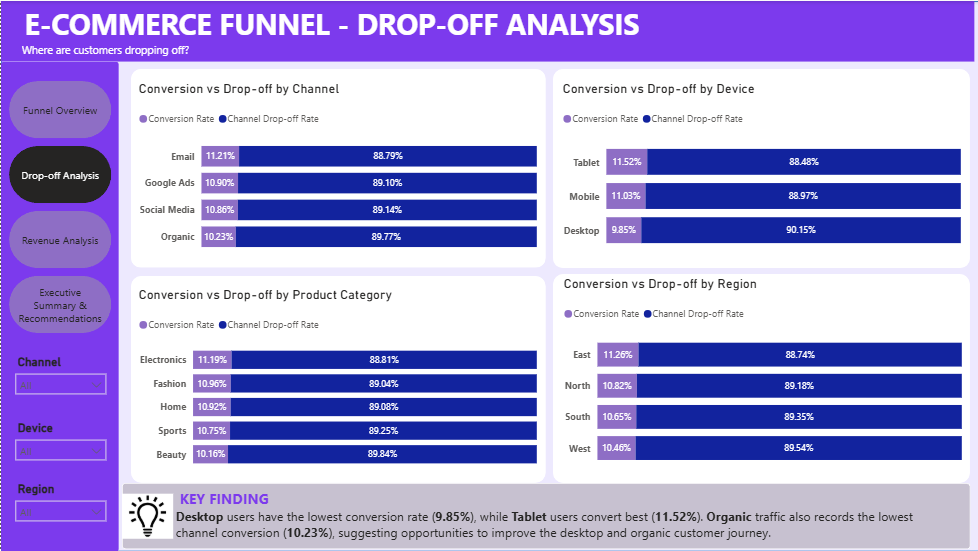

The dashboard page shown, as its layout file describes it:
{"tool":"powerbi","page":{"name":"Drop-off Analysis","canvas":[1280,720],"ordinal":1},"visuals":[{"type":"shape","box":[725.8,357.1,542.9,273.6],"z":0},{"type":"shape","box":[722.9,360,545.8,231.8],"z":1000},{"type":"shape","box":[0,0,1280,720.6],"z":2000},{"type":"shape","box":[0,79.2,154.1,640.8],"z":3000},{"type":"shape","title":"   E-COMMERCE FUNNEL - DROP-OFF ANALYSIS","box":[0,0,1274.4,79.2],"z":4000},{"type":"shape","box":[169.9,89.3,542.9,260],"z":5000},{"type":"shape","box":[722.9,89.3,545.8,260.6],"z":6000},{"type":"shape","box":[158.3,630.4,1110.7,86.7],"z":7000},{"type":"textbox","title":"KEY FINDING","box":[224.3,633.1,1030.9,84],"z":8000},{"type":"hundredPercentStackedBarChart","title":"Conversion vs Drop-off by Channel","fields":{"Category":["funnel_analysis_data.Channel"],"Y":["funnel_analysis_data.Channel Conversion Rate","funnel_analysis_data.Channel Drop-off Rate"]},"box":[175.7,105.1,531.4,237.6],"z":9000},{"type":"hundredPercentStackedBarChart","title":"Conversion vs Drop-off by Device","fields":{"Y":["funnel_analysis_data.Channel Conversion Rate","funnel_analysis_data.Channel Drop-off Rate"],"Category":["funnel_analysis_data.Device"]},"box":[730.1,105.1,531.4,237],"z":10000},{"type":"slicer","fields":{"Values":["funnel_analysis_data.Channel"]},"box":[7.2,456.5,141.1,59],"z":11000},{"type":"slicer","fields":{"Values":["funnel_analysis_data.Device"]},"box":[7.2,542.9,141.1,59],"z":12000},{"type":"slicer","fields":{"Values":["funnel_analysis_data.Region"]},"box":[7.2,623.5,141.1,59],"z":13000},{"type":"shape","box":[169.9,360,542.9,270.7],"z":14000},{"type":"hundredPercentStackedBarChart","title":"Conversion vs Drop-off by Product Category","fields":{"Y":["funnel_analysis_data.Channel Conversion Rate","funnel_analysis_data.Channel Drop-off Rate"],"Category":["funnel_analysis_data.Product_Category"]},"box":[175.7,374.4,531.4,249.1],"z":15000},{"type":"shape","box":[722.9,357.1,545.8,273.6],"z":16000},{"type":"hundredPercentStackedBarChart","title":"Conversion vs Drop-off by Region","fields":{"Y":["funnel_analysis_data.Channel Conversion Rate","funnel_analysis_data.Channel Drop-off Rate"],"Category":["funnel_analysis_data.Region"]},"box":[731.5,360,531.4,263.5],"z":17000},{"type":"textbox","box":[22,0,918,79.8],"z":18000},{"type":"image","box":[158.3,630.4,67.4,86.7],"z":19000},{"type":"pageNavigator","box":[11,104.6,134.9,330.3],"z":20000}]}

Visuals, with their boxes in screenshot pixels (x1, y1, x2, y2), scaled from the page's 1280x720 canvas onto the 978x551 screenshot:
shape: 555/273/969/483
shape: 552/276/969/453
shape: 0/0/977/550
shape: 0/61/118/550
"   E-COMMERCE FUNNEL - DROP-OFF ANALYSIS" shape: 0/0/974/61
shape: 130/68/545/267
shape: 552/68/969/268
shape: 121/482/970/549
"KEY FINDING" textbox: 171/484/959/549
"Conversion vs Drop-off by Channel" hundredPercentStackedBarChart: 134/80/540/262
"Conversion vs Drop-off by Device" hundredPercentStackedBarChart: 558/80/964/262
slicer - funnel_analysis_data.Channel: 6/349/113/395
slicer - funnel_analysis_data.Device: 6/415/113/461
slicer - funnel_analysis_data.Region: 6/477/113/522
shape: 130/276/545/483
"Conversion vs Drop-off by Product Category" hundredPercentStackedBarChart: 134/287/540/477
shape: 552/273/969/483
"Conversion vs Drop-off by Region" hundredPercentStackedBarChart: 559/276/965/477
textbox: 17/0/718/61
image: 121/482/172/549
pageNavigator: 8/80/111/333
